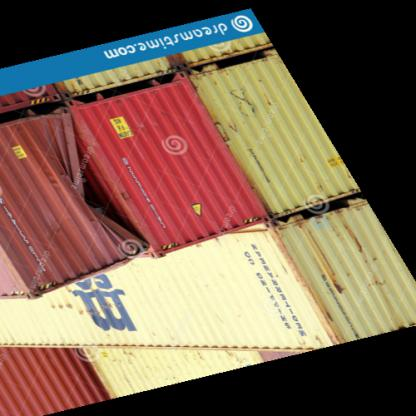Damage: (64, 138, 138, 248)
